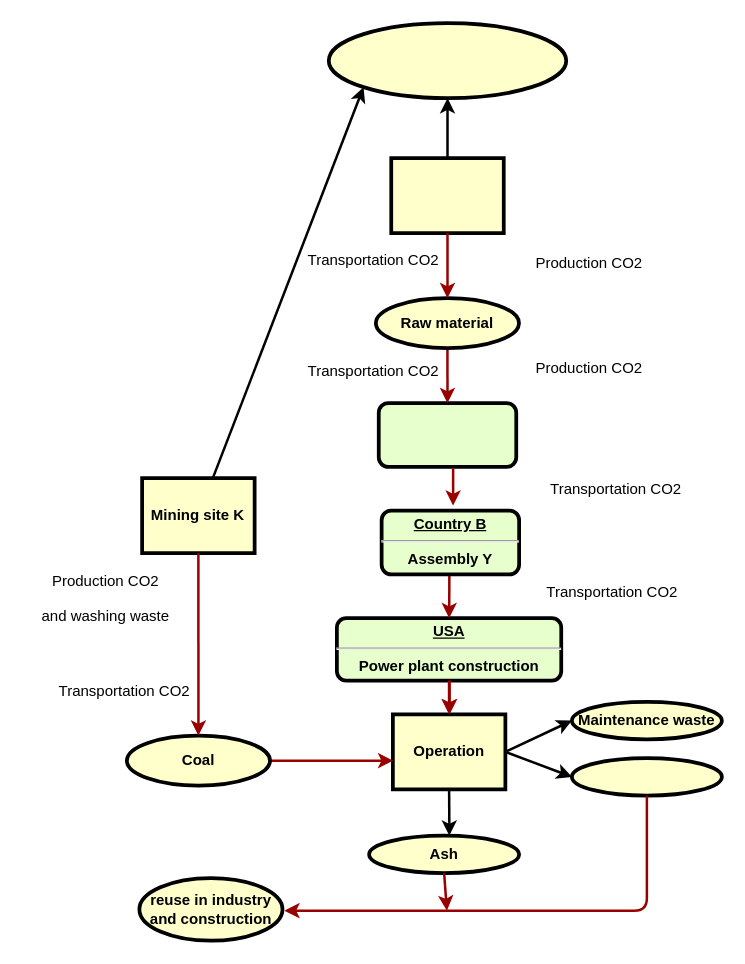
The diagram is 745 pixels wide and 964 high, and some of its shapes have lost their labels. The box of each missing label's shape, as (x1, y1, x2, y2) in pixels:
Country A Component X: (376, 401, 518, 468)
Disposal waste: (569, 756, 723, 797)
Mining site N: (389, 156, 505, 234)
Mining waste, tailings, CO2: (326, 21, 568, 99)
